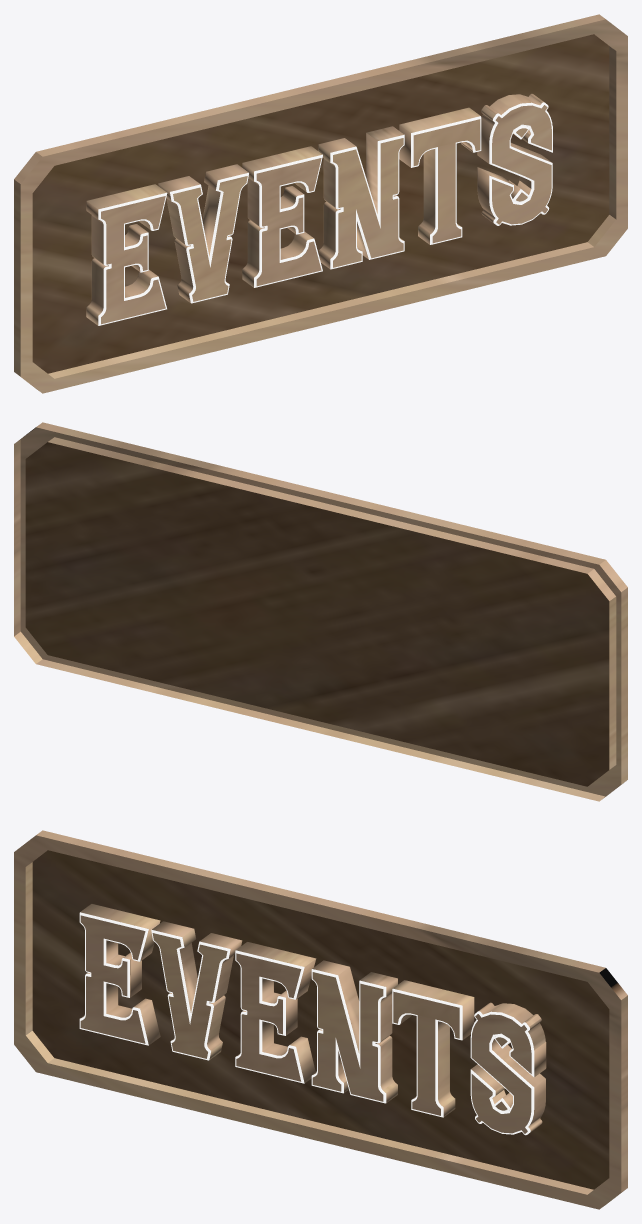
File: BoardWebsiteEvents.glb
3 renders of one model, top to bottom at view 1: azimuth 30°, elevation 25°; view 2: azimuth 150°, elevation 25°; view 3: azimuth 330°, elevation 25°, orthographic.
Parts seen in each view (by area): view 1: Plane, Text.250; view 2: Plane; view 3: Plane, Text.250.
Boxes of the visible parts, <box> form: Plane: <box>14,14,627,393</box>; Text.250: <box>86,93,552,325</box>; Plane: <box>14,422,627,801</box>; Plane: <box>14,830,627,1209</box>; Text.250: <box>79,904,546,1135</box>.
Bounding box in the file's own units: 3.05 × 1.14 × 0.1181.
2 materials, 1 textured.
